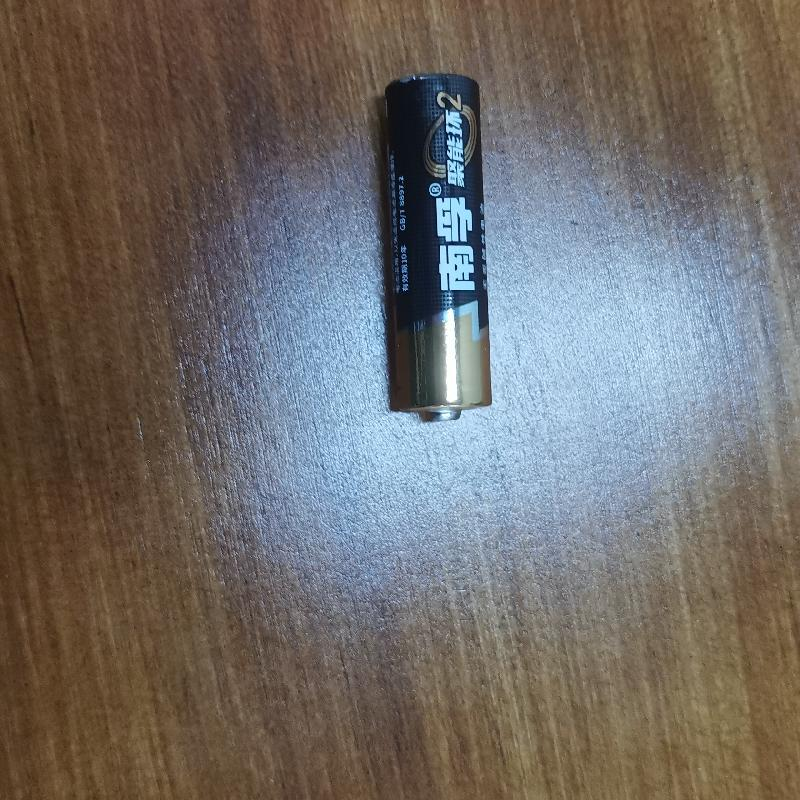battery: (376, 72, 498, 434)
